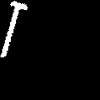half_double_crochet: (1, 1, 26, 56)
